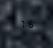seven: (19, 20, 25, 28)
six: (26, 20, 32, 28)
